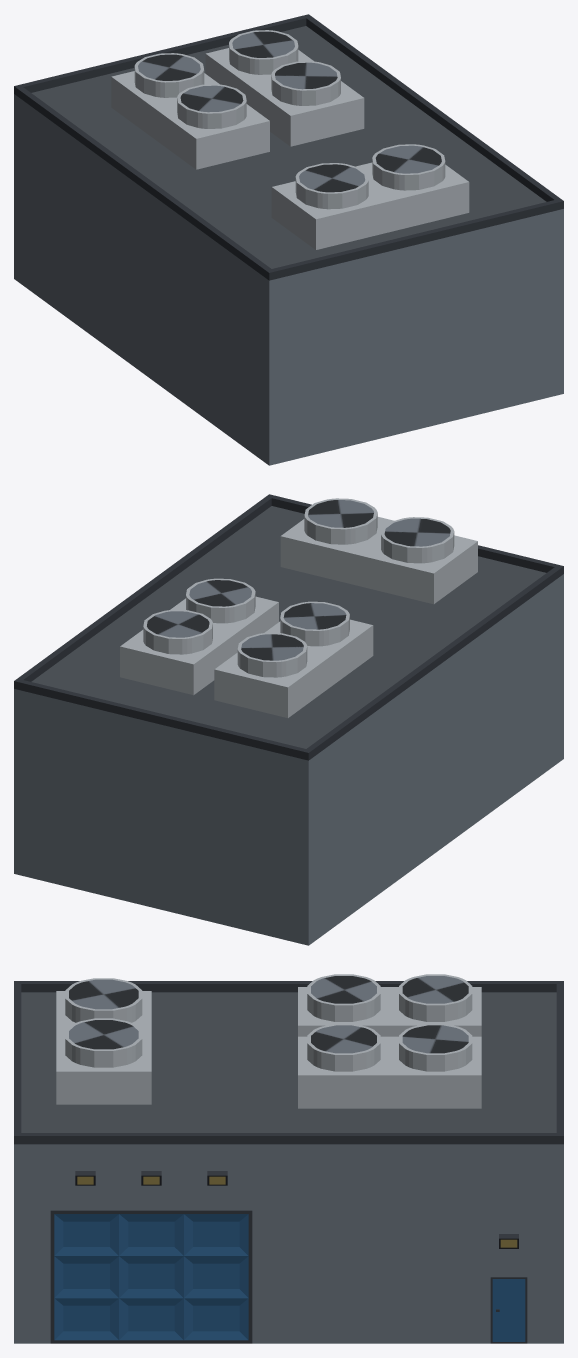
The model's file is Warehouse1.fbx.
3 renders of one model, top to bottom at view 1: azimuth 30°, elevation 25°; view 2: azimuth 150°, elevation 25°; view 3: azimuth 270°, elevation 25°, orthographic. The views are drawn at different scales.
Parts seen in each view (by area): view 1: Warehouse1, Warehouse1_HVAC; view 2: Warehouse1, Warehouse1_HVAC; view 3: Warehouse1, Warehouse1_HVAC, Warehouse1_GarageDoor, Warehouse1_Door, Warehouse1_Lighting.
Boxes of the visible parts, x1=… form: Warehouse1: x1=14, y1=14, x2=563, y2=465; Warehouse1_HVAC: x1=111, y1=30, x2=469, y2=249; Warehouse1: x1=14, y1=494, x2=563, y2=945; Warehouse1_HVAC: x1=120, y1=498, x2=477, y2=717; Warehouse1: x1=14, y1=981, x2=563, y2=1343; Warehouse1_HVAC: x1=56, y1=974, x2=481, y2=1108; Warehouse1_GarageDoor: x1=50, y1=1210, x2=252, y2=1343; Warehouse1_Door: x1=490, y1=1277, x2=527, y2=1343; Warehouse1_Lighting: x1=75, y1=1171, x2=518, y2=1248.
Size of the model in its own units: 1030 by 750 by 1500.
